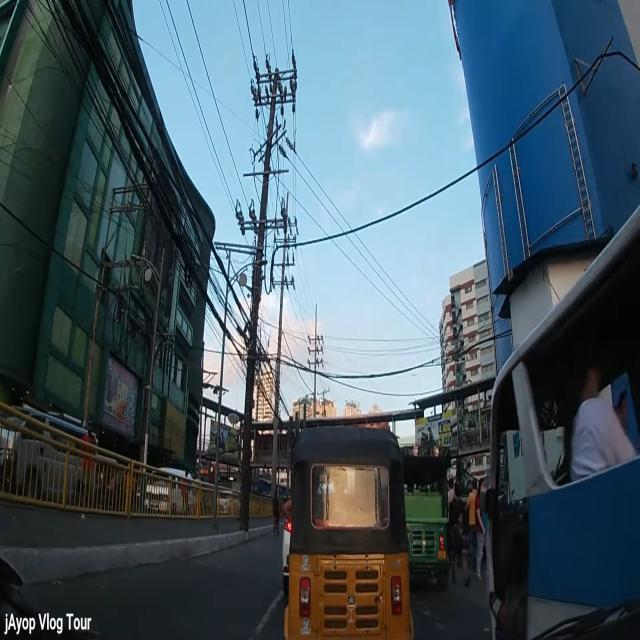tricycle: (487, 202, 640, 640), (285, 422, 415, 640), (400, 450, 450, 587)
